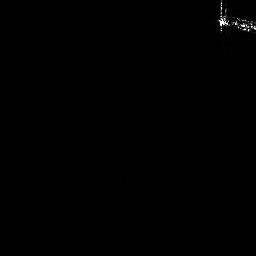ship: (219, 3, 256, 32)
